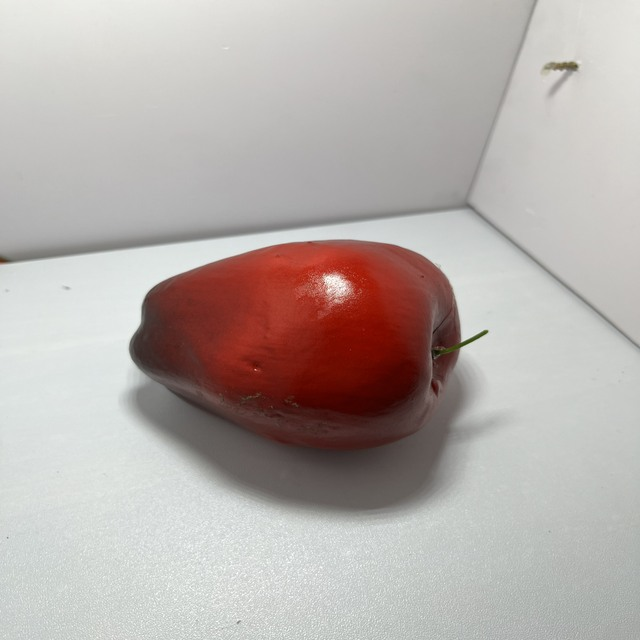Tao: (122, 237, 463, 461)
